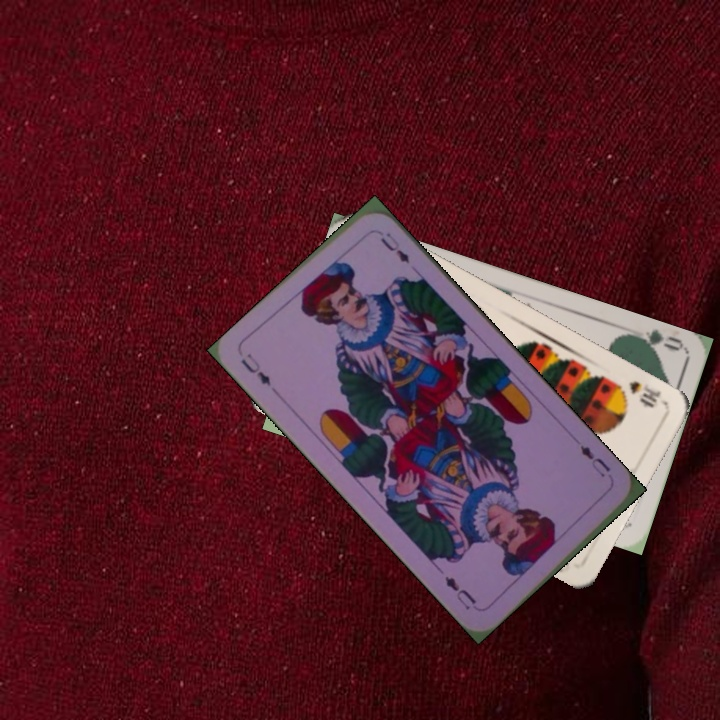EU: (236, 349, 274, 389), (575, 441, 613, 480)
GO: (625, 326, 685, 355)
S10: (624, 377, 664, 411)
